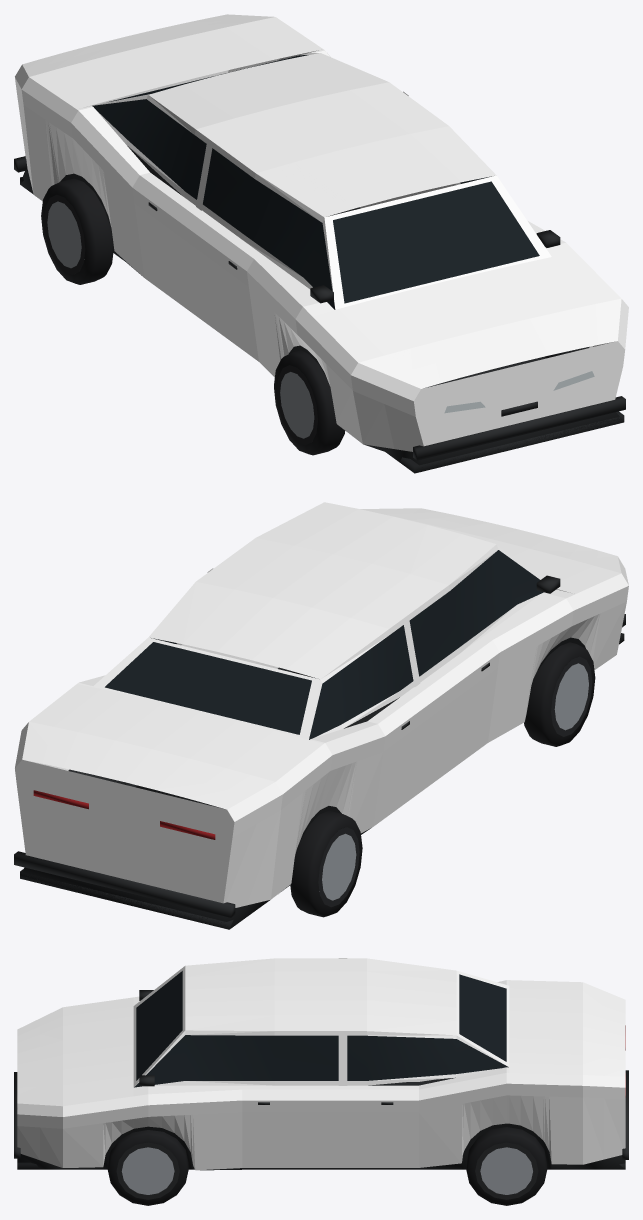
Rendered from keldorf_torre.glb.
The picture shows the model from 3 angles, top to bottom: view 1: azimuth 30°, elevation 25°; view 2: azimuth 150°, elevation 25°; view 3: azimuth 270°, elevation 25°; orthographic projection. The views are drawn at different scales.
Parts seen in each view (by area): view 1: Body_Paint, Body_Details, Mount_RearLeft_Wheel_Details, Mount_FrontLeft_Wheel_Details; view 2: Body_Paint, Body_Details, Mount_RearLeft_Wheel_Details, Mount_FrontLeft_Wheel_Details; view 3: Body_Paint, Body_Details, Mount_RearRight_Wheel_Details, Mount_FrontRight_Wheel_Details.
Part boxes in pixels (x1,y1,x2,y2): Body_Paint: (15, 14, 628, 451); Body_Details: (14, 55, 625, 473); Mount_RearLeft_Wheel_Details: (41, 178, 113, 284); Mount_FrontLeft_Wheel_Details: (274, 350, 344, 455); Body_Paint: (15, 502, 628, 907); Body_Details: (14, 550, 625, 929); Mount_RearLeft_Wheel_Details: (290, 810, 362, 917); Mount_FrontLeft_Wheel_Details: (524, 642, 595, 746); Body_Paint: (17, 958, 625, 1170); Body_Details: (14, 971, 628, 1170); Mount_RearRight_Wheel_Details: (466, 1127, 547, 1205); Mount_FrontRight_Wheel_Details: (107, 1130, 188, 1205).
Bounding box in the file's own units: 2.07 × 1.51 × 5.14.
2 materials, 1 textured.
